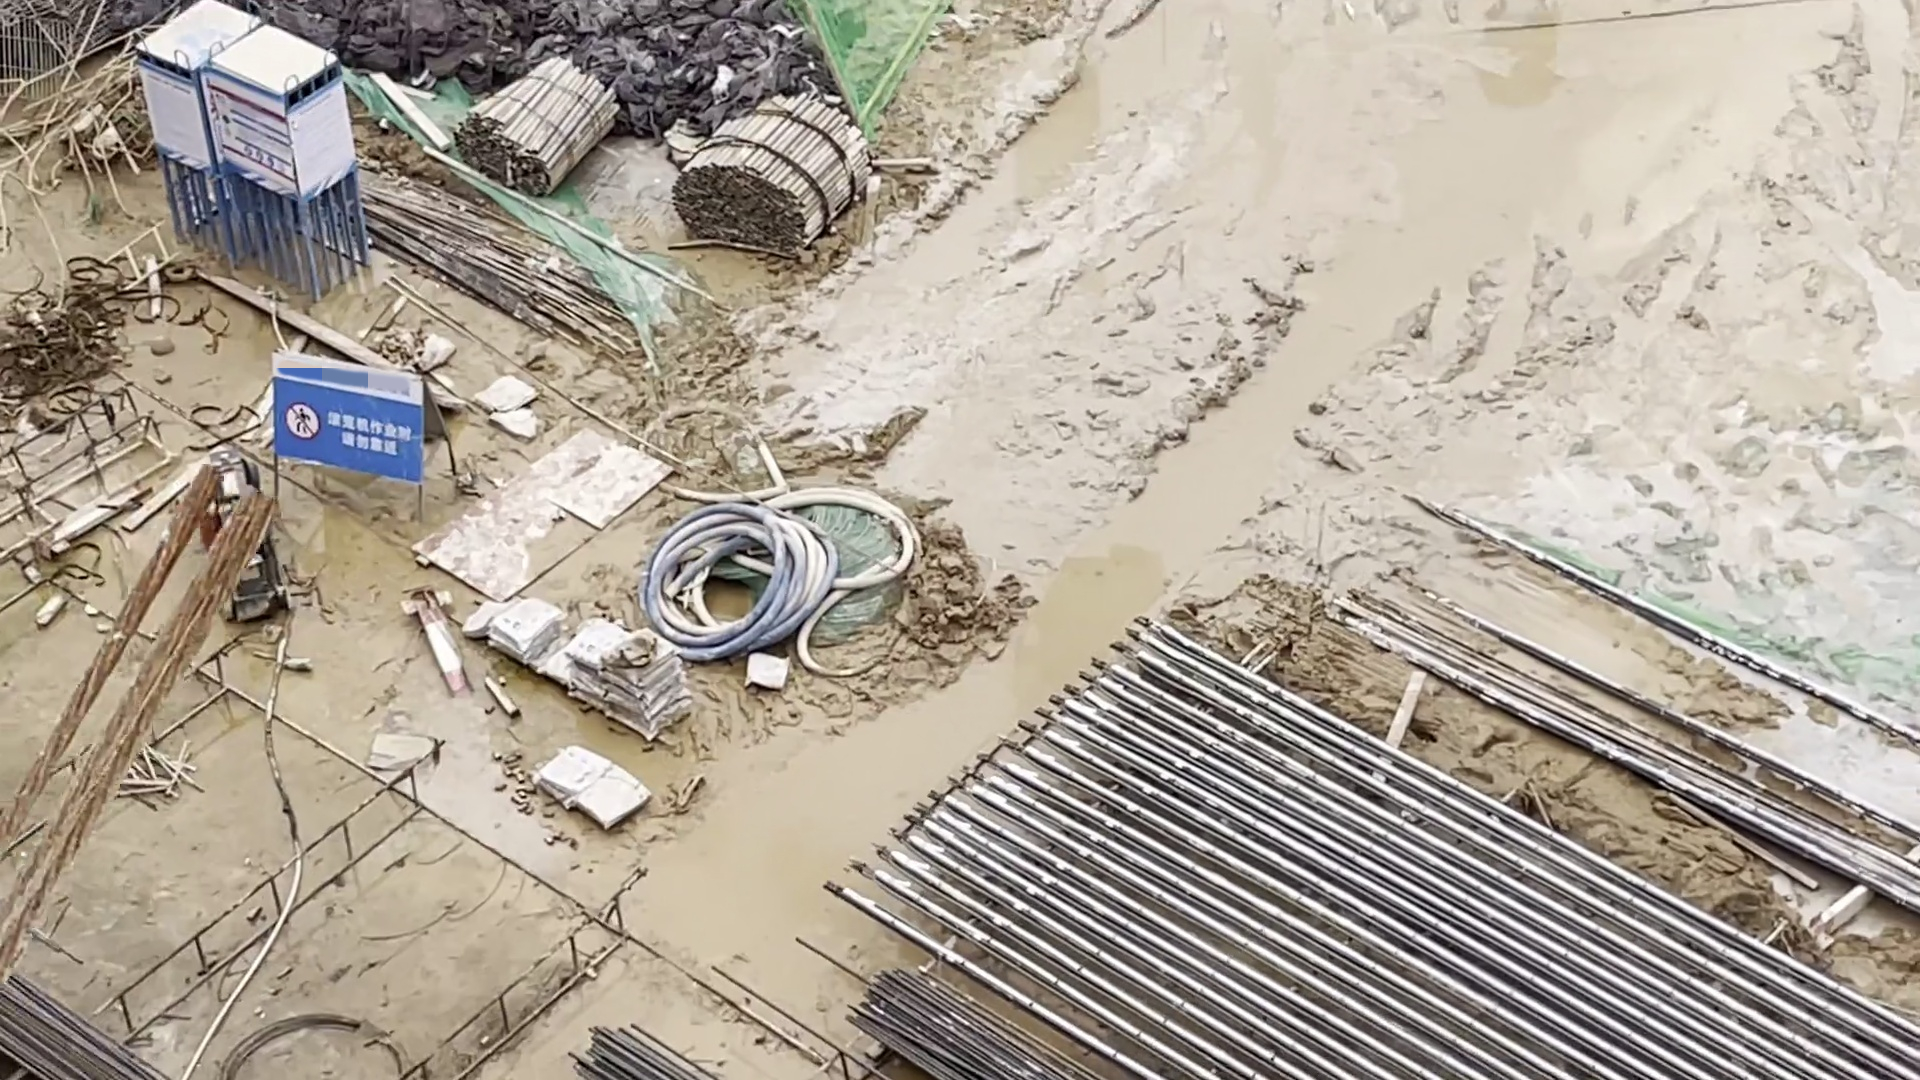slogan: (276, 382, 422, 480)
wood: (674, 94, 874, 255), (454, 57, 622, 200)
